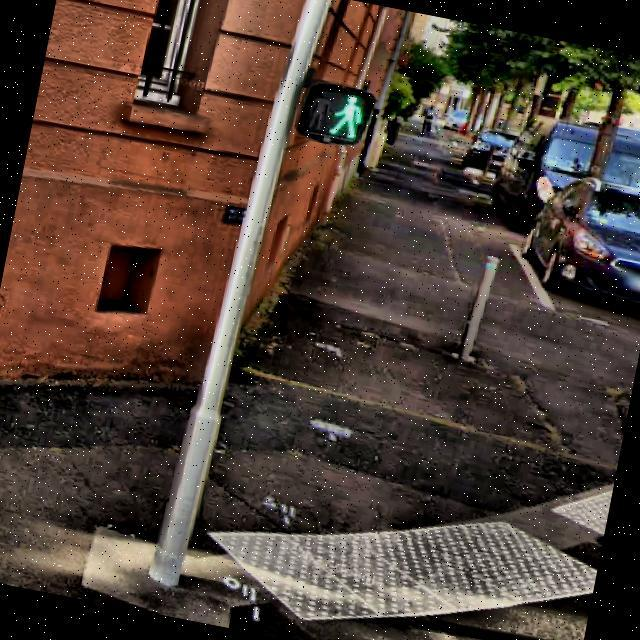green_light: (319, 85, 368, 144)
